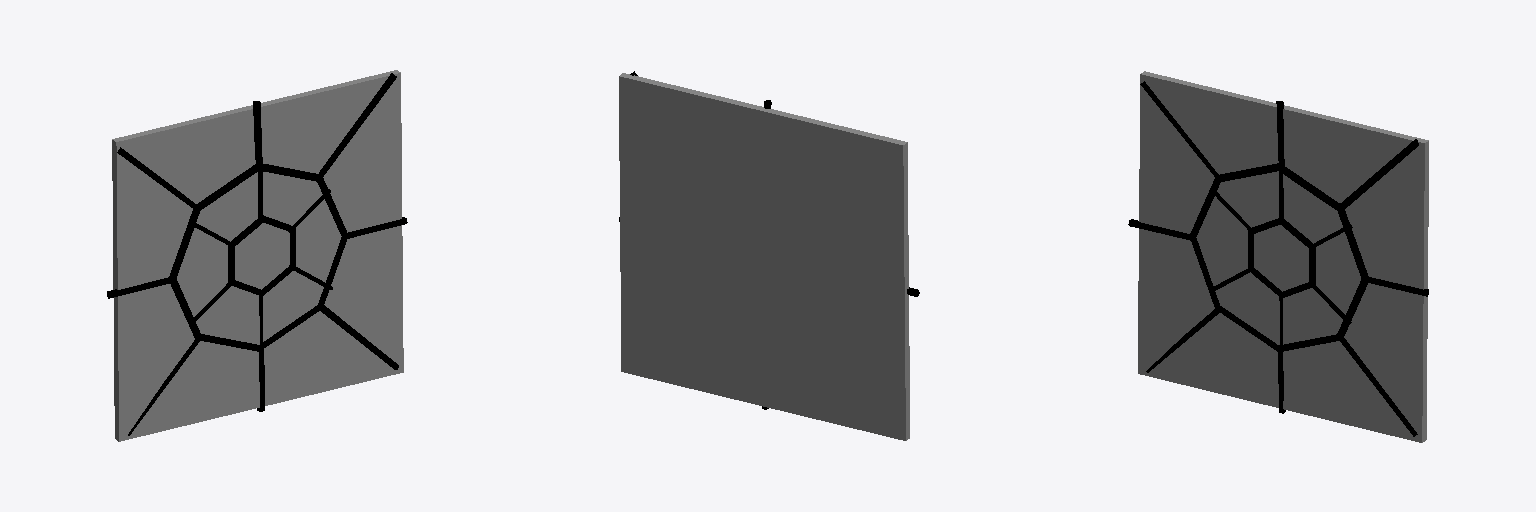
The model's file is Plattbrygga.obj.
3 views of the same model, side by side, from view 1: azimuth 30°, elevation 25°; view 2: azimuth 150°, elevation 25°; view 3: azimuth 330°, elevation 25° (orthographic).
Visible parts, largest first — view 1: Box001, Torus001, Torus002, Cylinder001, Cylinder002, Cylinder005; view 2: Box001; view 3: Box001, Torus001, Torus002, Cylinder001, Cylinder002, Cylinder005.
Part boxes in pixels (left/top/right/bottom): Box001: left=112, top=70, right=403, bottom=441; Torus001: left=169, top=164, right=347, bottom=351; Torus002: left=228, top=215, right=295, bottom=295; Cylinder001: left=319, top=73, right=396, bottom=176; Cylinder002: left=320, top=305, right=398, bottom=369; Cylinder005: left=117, top=147, right=195, bottom=208; Box001: left=619, top=73, right=909, bottom=440; Box001: left=1138, top=71, right=1428, bottom=442; Torus001: left=1190, top=163, right=1368, bottom=351; Torus002: left=1248, top=217, right=1315, bottom=297; Cylinder001: left=1339, top=139, right=1418, bottom=208; Cylinder002: left=1339, top=337, right=1417, bottom=436; Cylinder005: left=1140, top=81, right=1218, bottom=177.
Bounding box in the file's own units: 217 × 215 × 10.82.